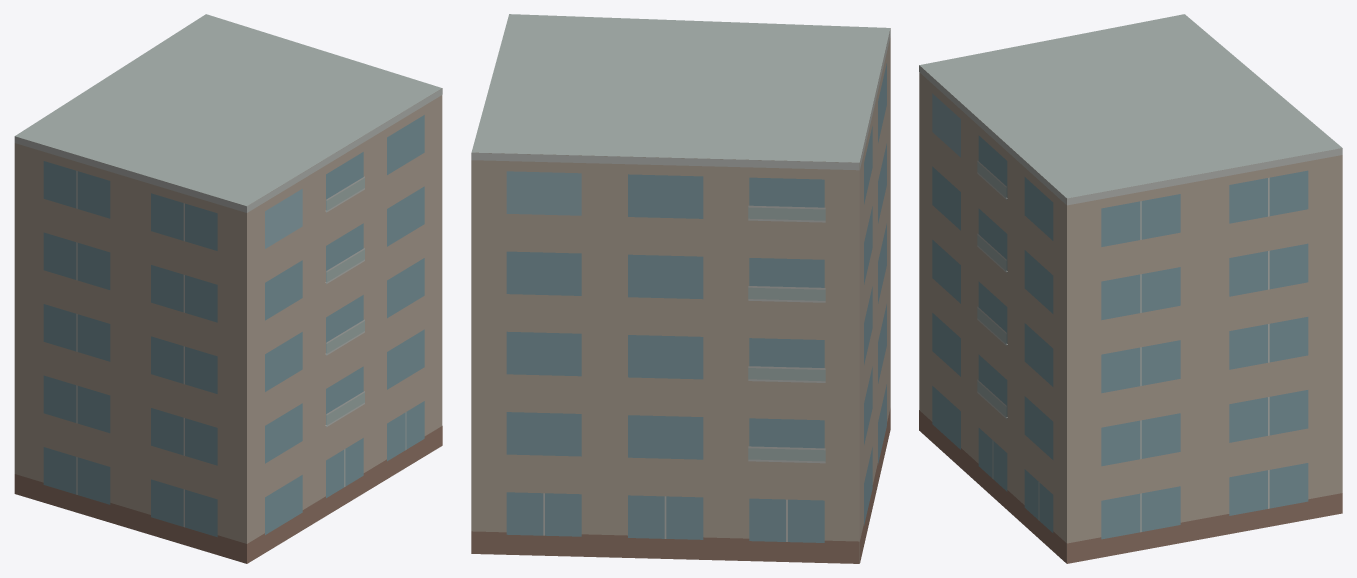
File: survey-upis-32748896.glb
The picture shows the model from 3 angles, left to right: view 1: azimuth 30°, elevation 25°; view 2: azimuth 150°, elevation 25°; view 3: azimuth 270°, elevation 25°; orthographic projection. The views are drawn at different scales.
Parts seen in each view (by area): view 1: survey-upis-32748896.tmp; view 2: survey-upis-32748896.tmp; view 3: survey-upis-32748896.tmp.
Part boxes in pixels (x1,y1,x2,y2): survey-upis-32748896.tmp: (14, 14, 442, 563); survey-upis-32748896.tmp: (471, 14, 890, 563); survey-upis-32748896.tmp: (919, 14, 1342, 563).
Size of the model in its own units: 13.98 by 12.9 by 13.56.
